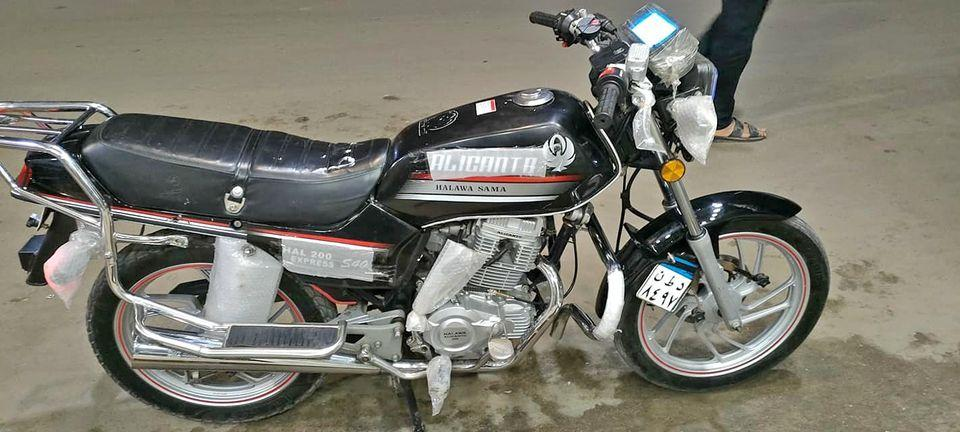License Plate: (634, 256, 699, 309)
